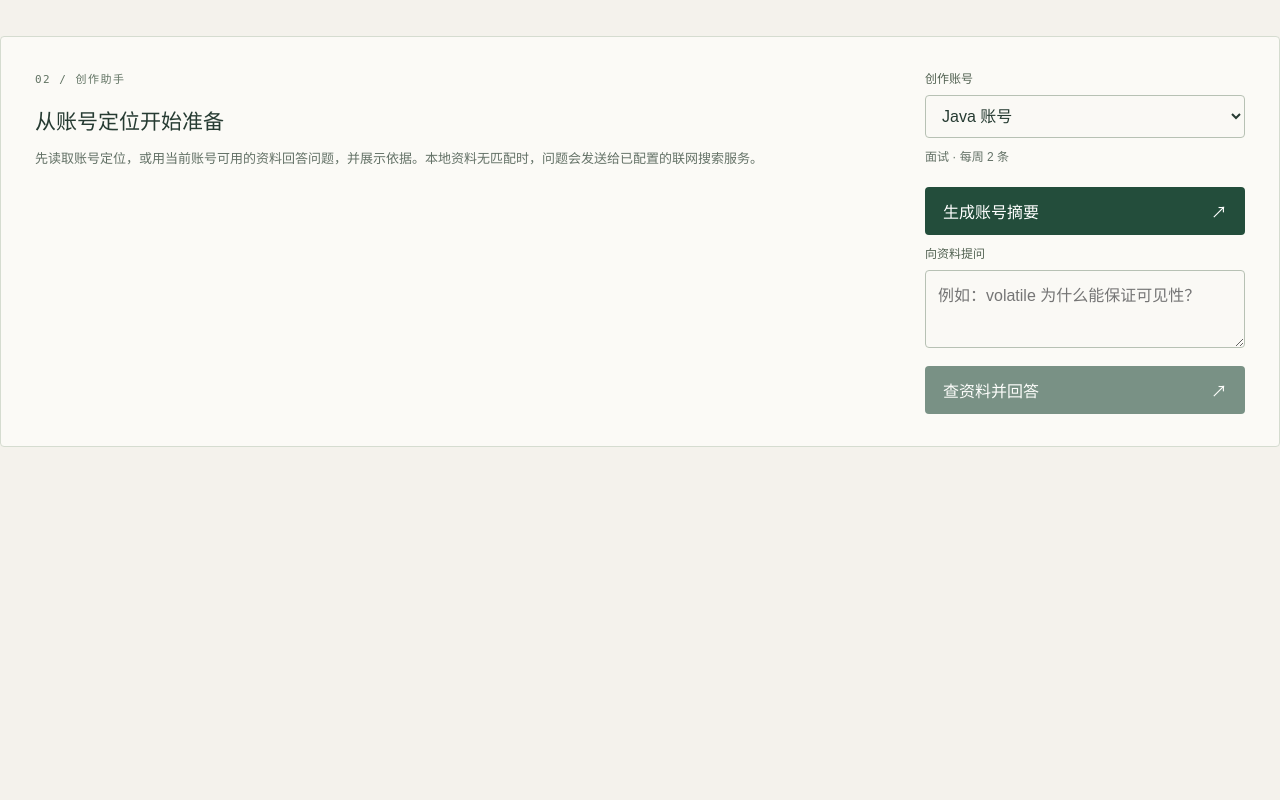
Test: creator chat › asks within the selected account and displays local evidence with its source
Type "volatile 为什么能保证可见性？" into the text box with id "agent-query" at (1085, 309), box left=925, top=270, right=1245, bottom=348
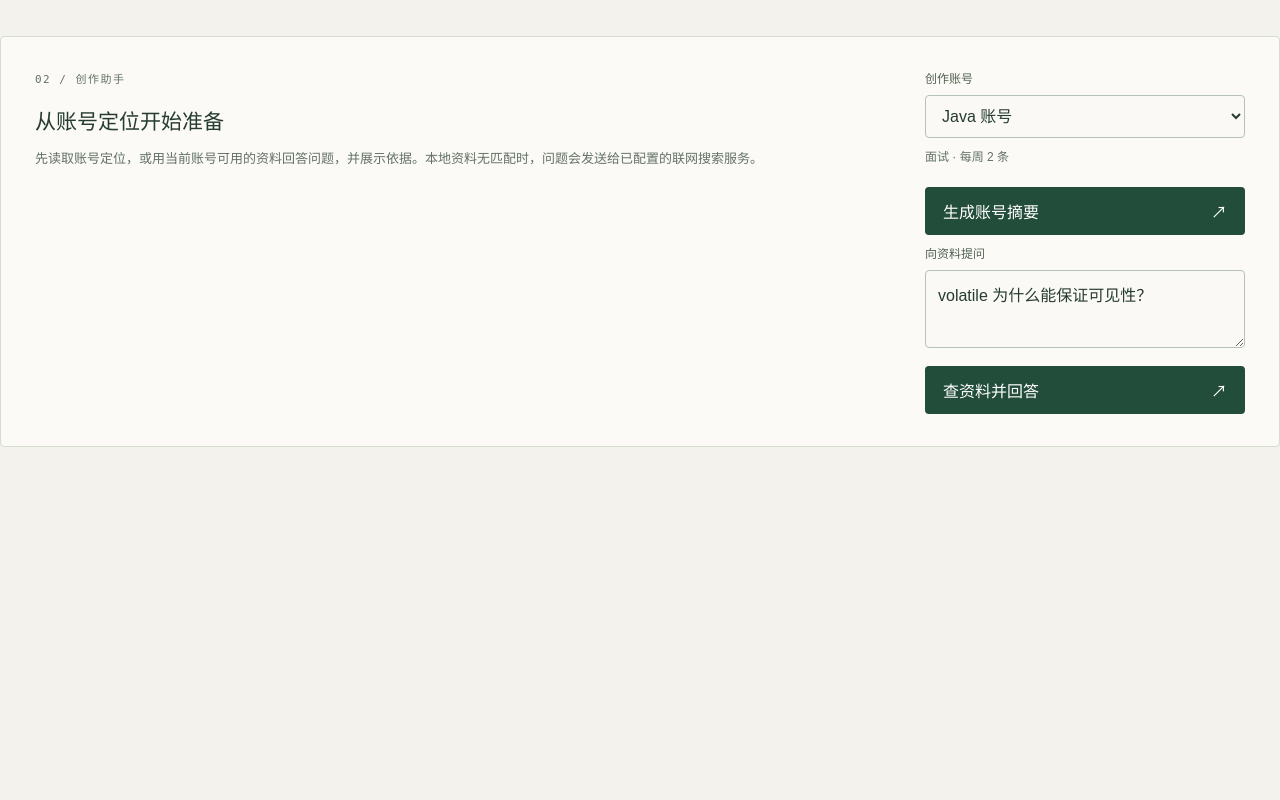
Click the button "查资料并回答 ↗" at (991, 391), box left=925, top=366, right=1245, bottom=414
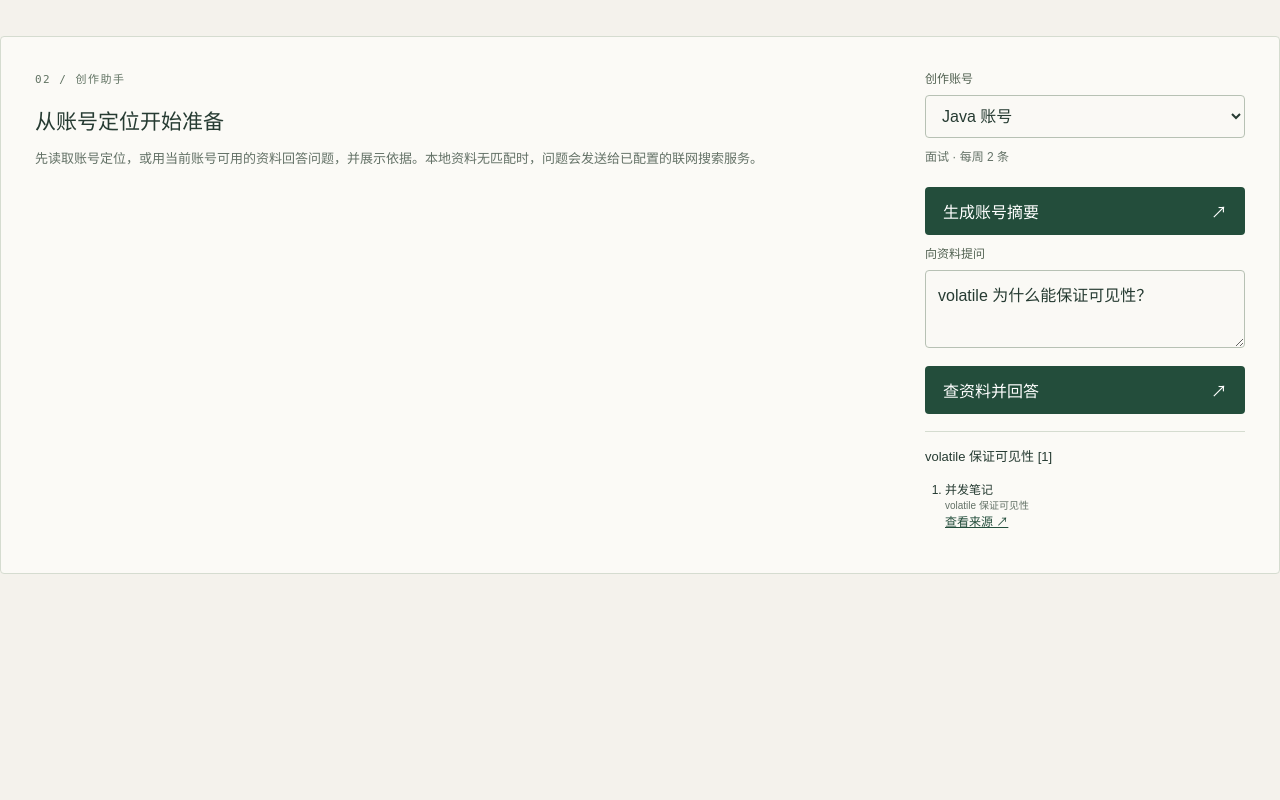
expect the message with class "research-answer" shows "volatile 保证可见性": met, box left=945, top=500, right=1029, bottom=511
